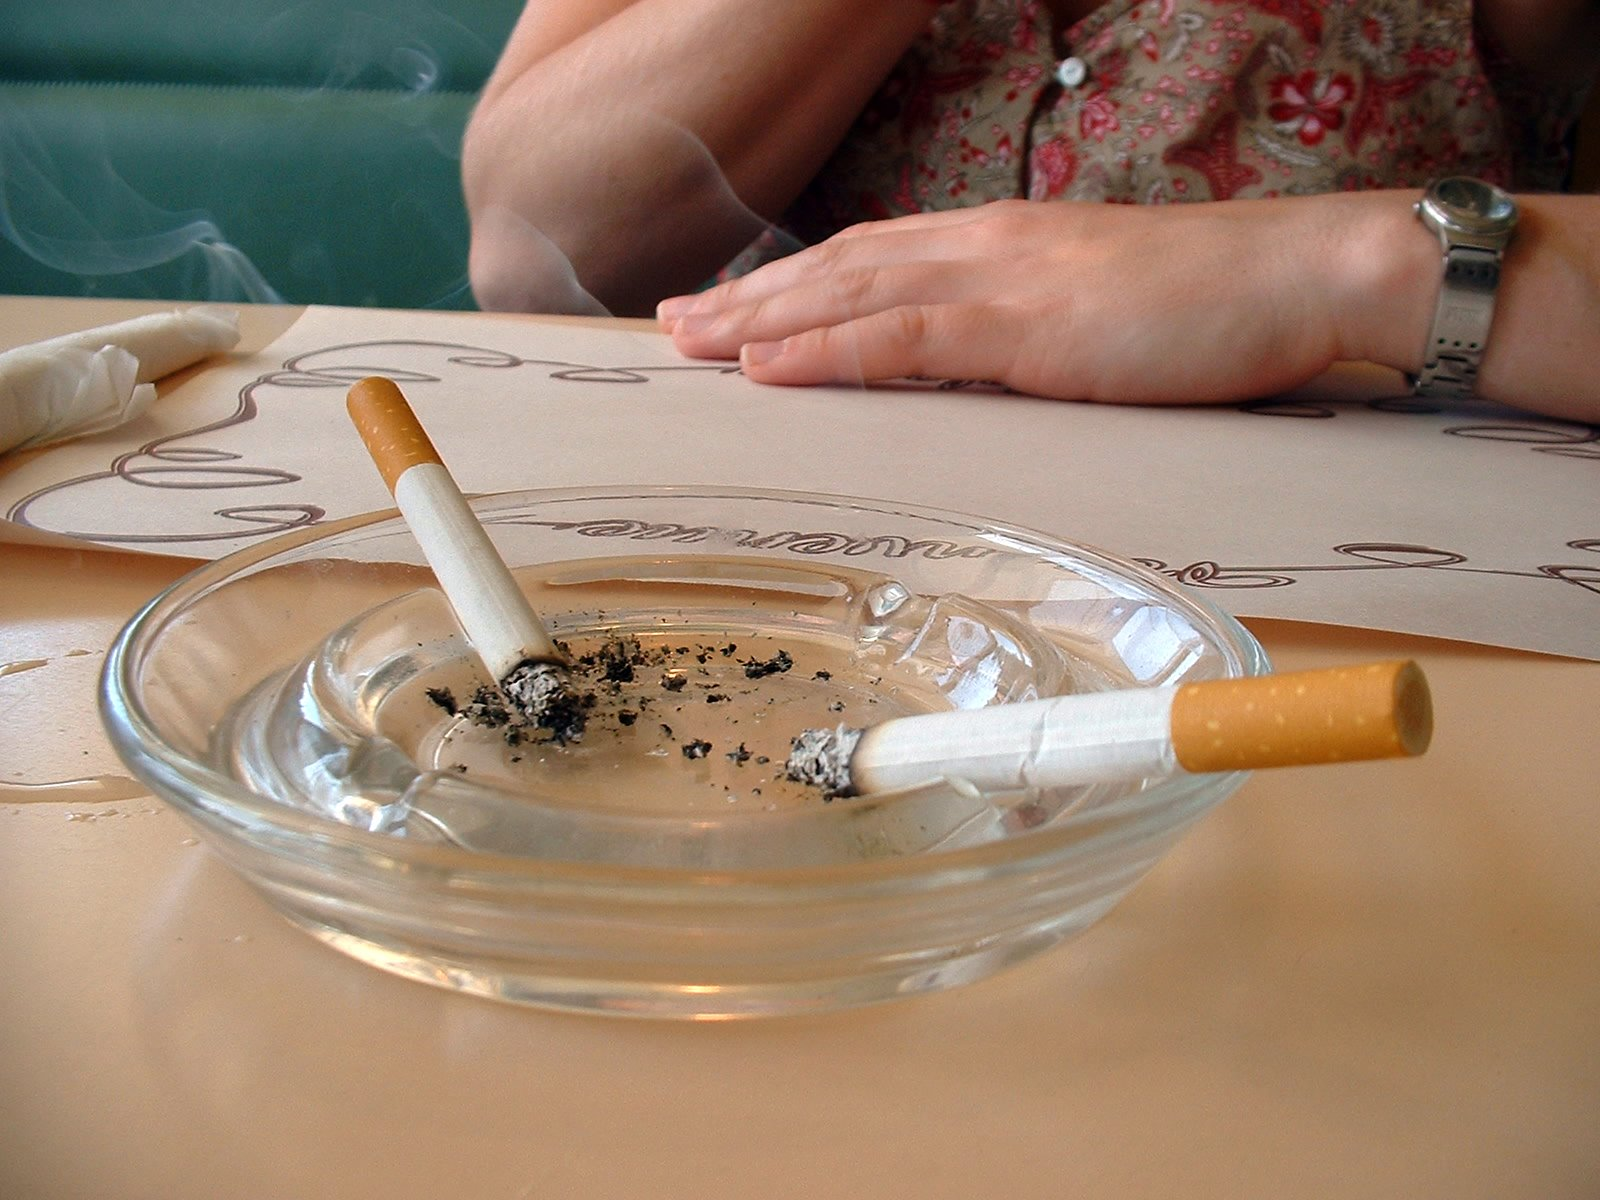cigarette: (781, 650, 1434, 804), (344, 371, 585, 735)
